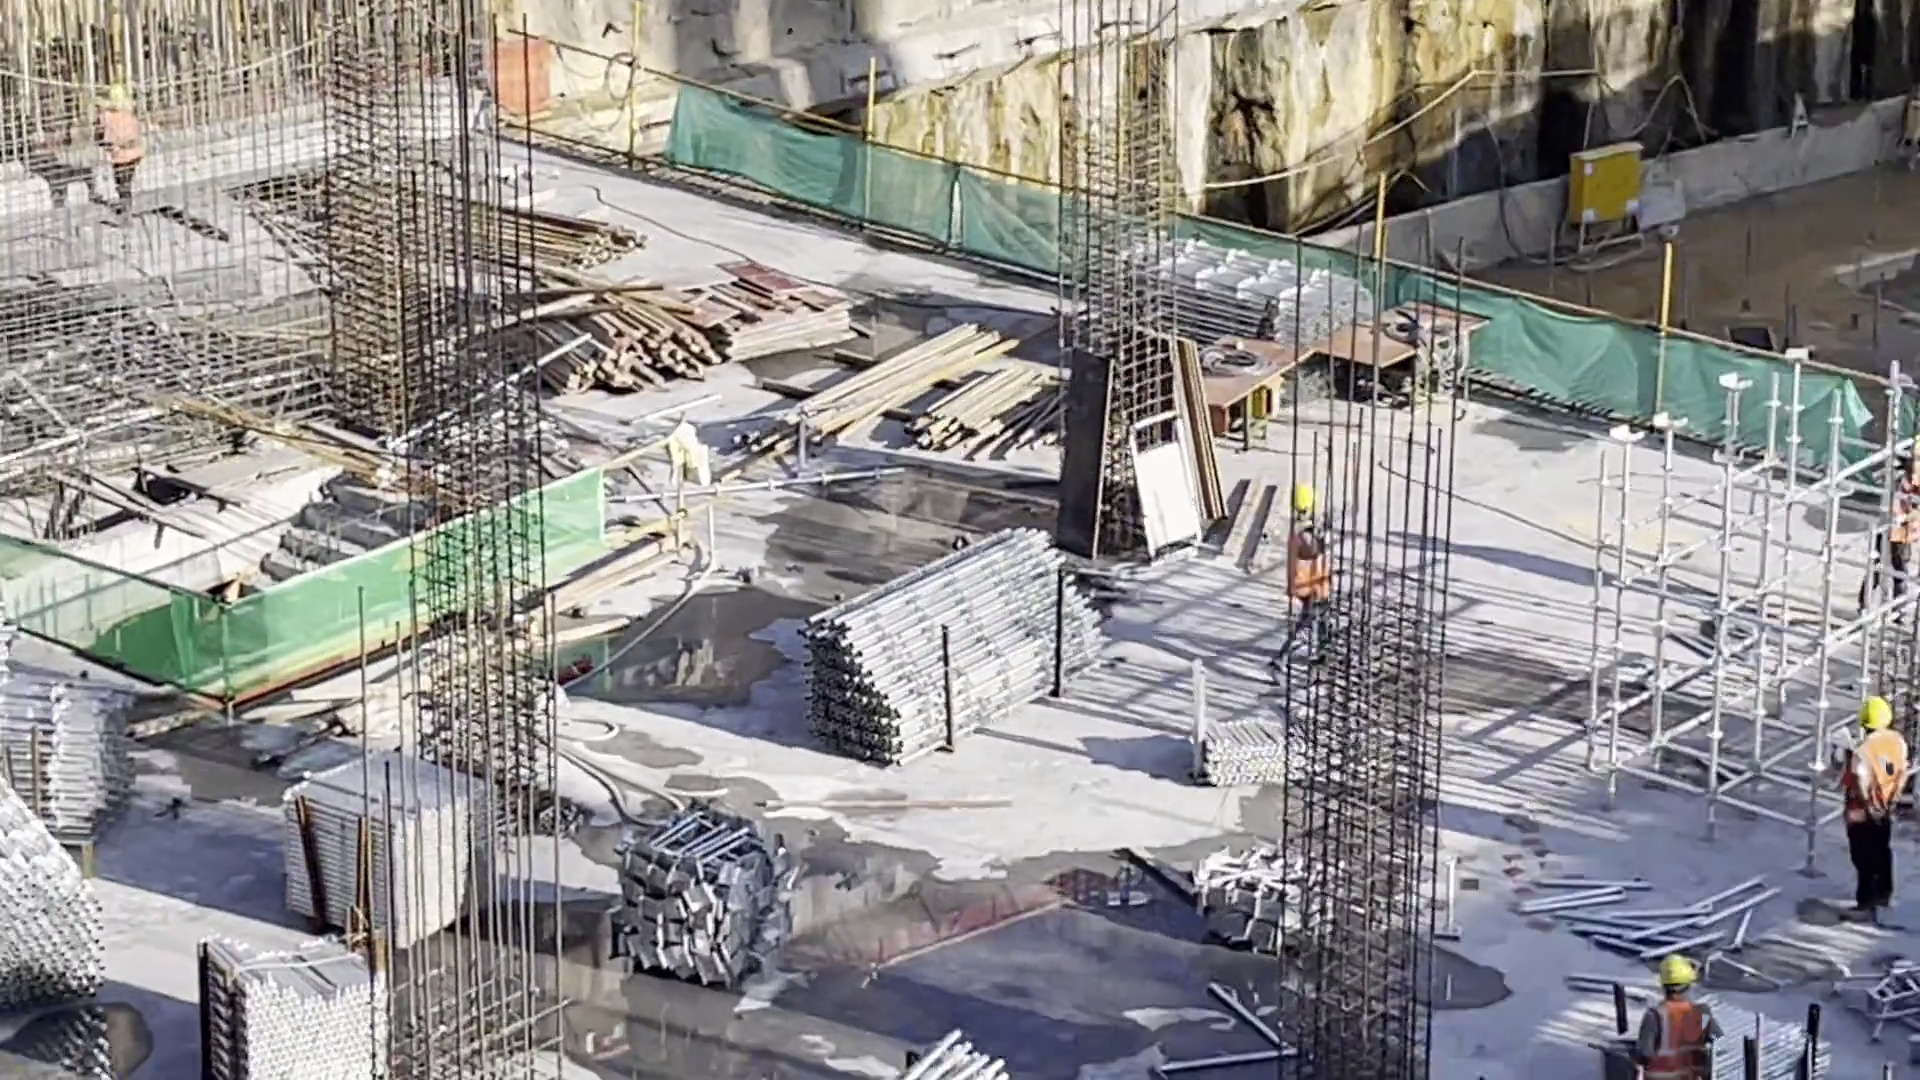board: (701, 261, 829, 340)
cutter: (1298, 299, 1509, 390), (1177, 344, 1306, 431)
ebox: (1577, 160, 1648, 245)
helmet: (1658, 951, 1696, 989), (1857, 697, 1891, 731), (1290, 485, 1317, 513), (106, 86, 128, 103)
person: (1839, 695, 1910, 935), (1267, 483, 1338, 684), (1615, 946, 1721, 1080), (94, 86, 149, 224), (1871, 448, 1920, 594)
scaffold: (821, 536, 1072, 741), (199, 925, 396, 1080), (1123, 239, 1336, 345), (1601, 974, 1804, 1080), (303, 779, 460, 909), (1, 790, 97, 987), (1, 693, 152, 807), (1190, 676, 1312, 783)
vest: (1642, 1004, 1717, 1072), (1850, 734, 1906, 820), (1287, 530, 1332, 604), (1884, 472, 1920, 546), (103, 112, 143, 162)
wood: (412, 185, 599, 272), (810, 339, 974, 419), (557, 304, 697, 396), (918, 366, 1041, 443)
